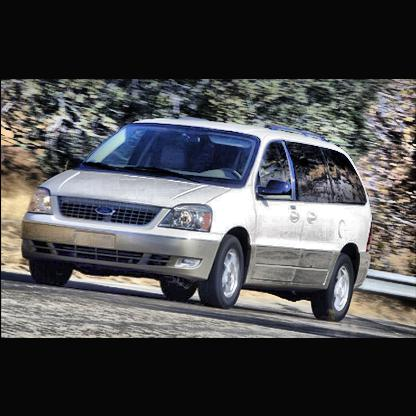Ford Freestar Minivan 2007: (21, 118, 371, 323)
